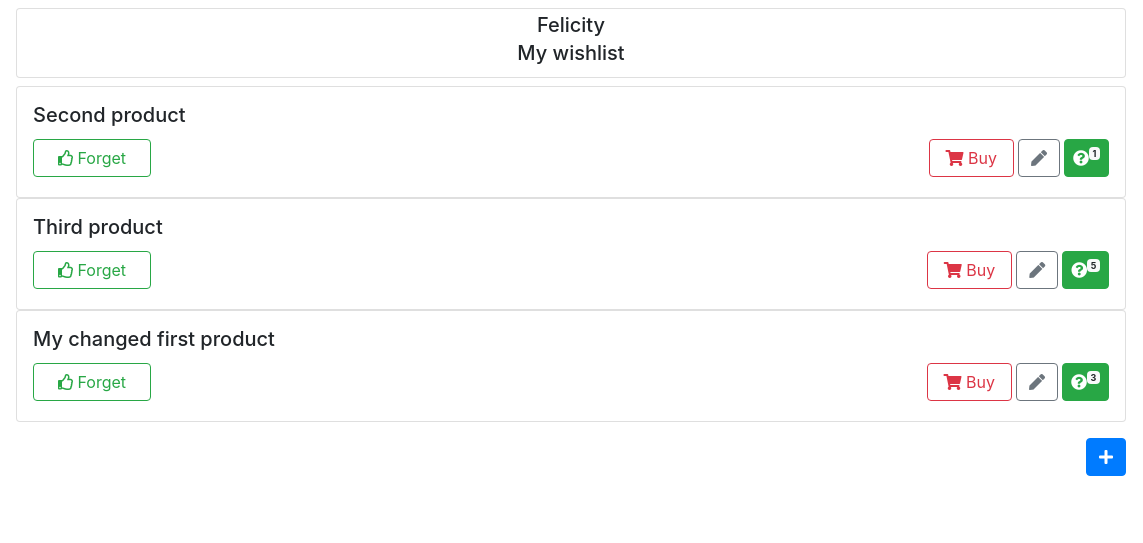
Scenario: App acceptance tests › It is possible to edit an existing product in the list › when the button to edit an existing product is clicked › when changing product name and saving › if it renders the product item with changed name
Click the 1st button titled "Edit product".
click(1039, 158)  # box top-left (1018, 139), bottom-right (1060, 177)
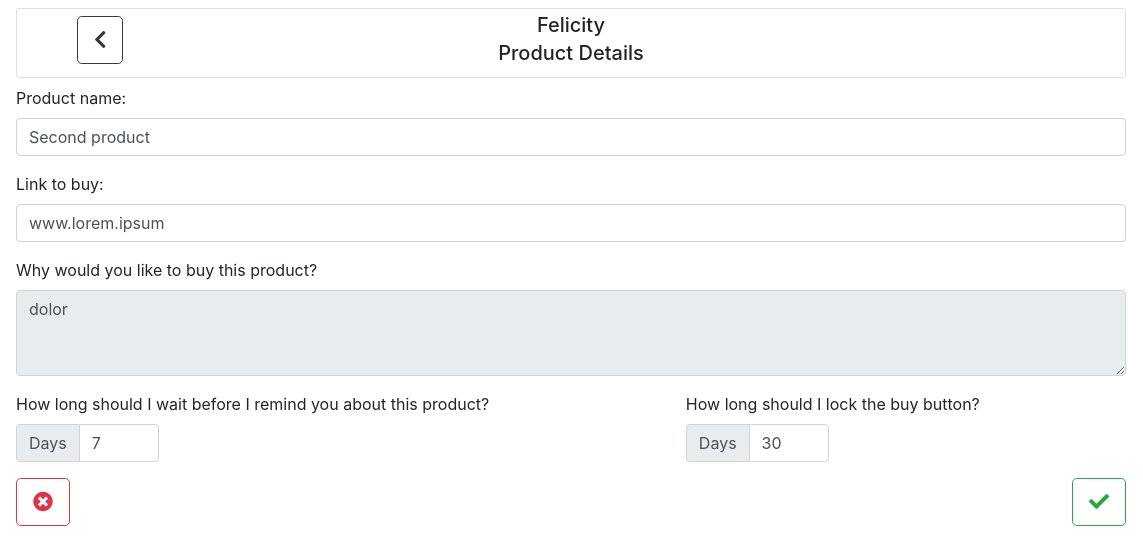
Replace the text in the field with test id "name" with "My changed first product" at (571, 137), box top-left (16, 118), bottom-right (1126, 156)
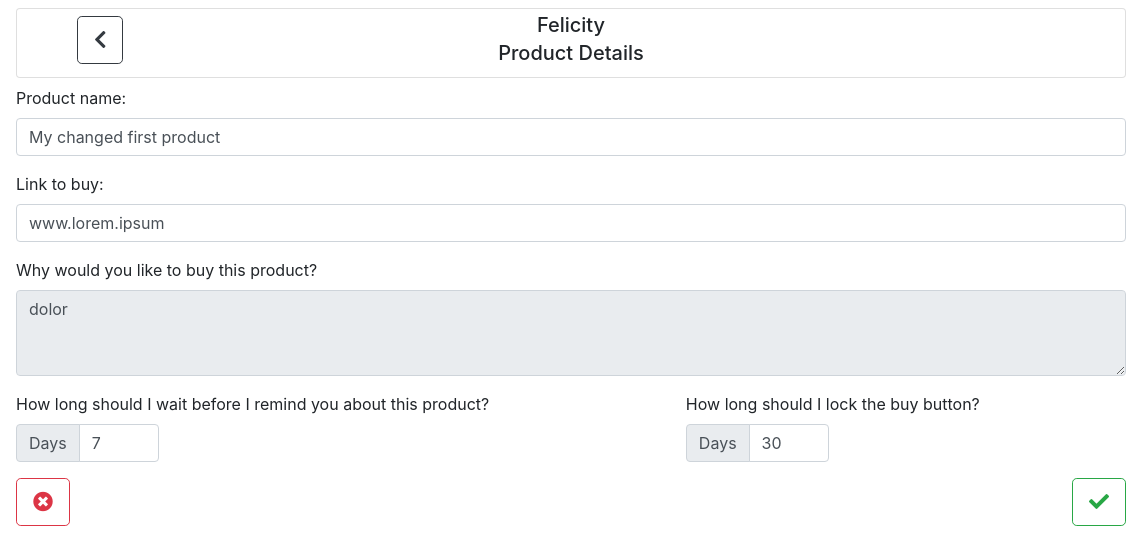
Click the button titled "Save product".
click(1099, 502)  # box top-left (1072, 478), bottom-right (1126, 526)
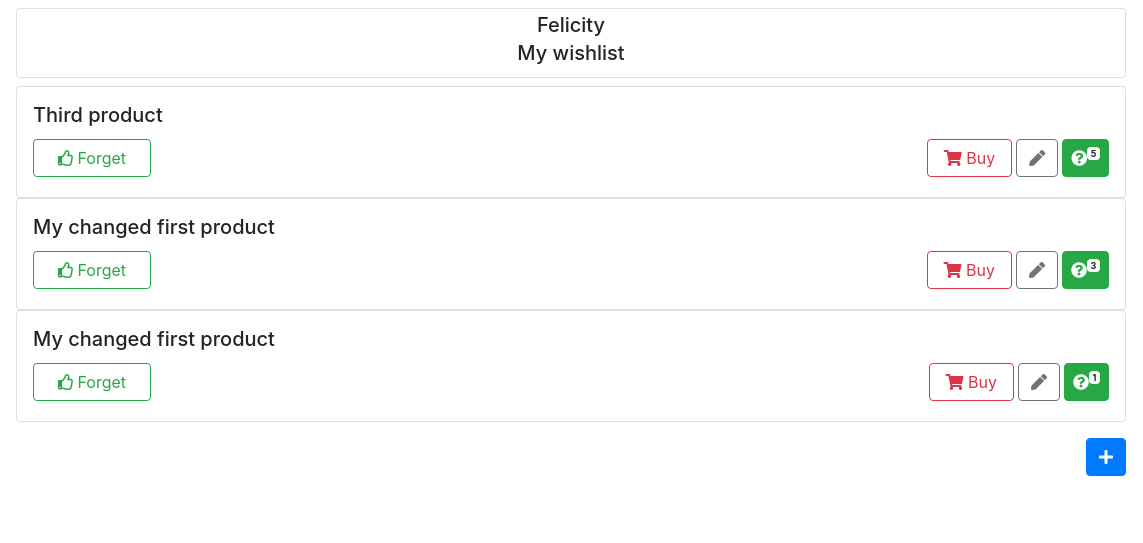
Check: the 1st text "My changed first product" is shown, box top-left (33, 215), bottom-right (275, 239)
